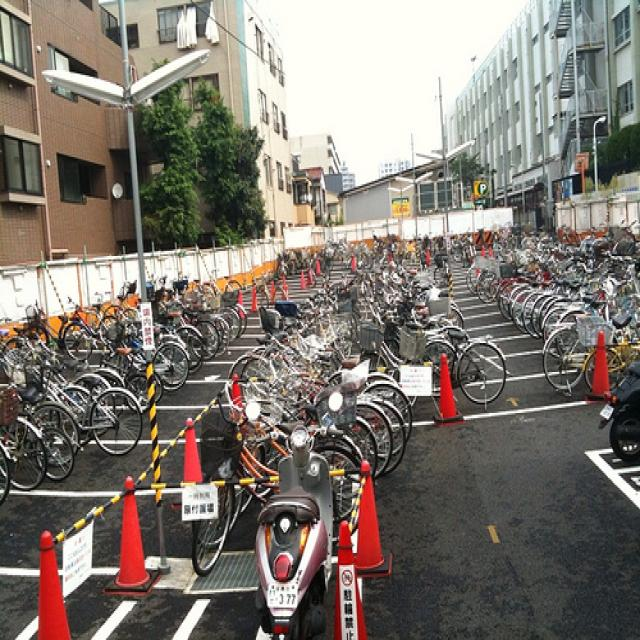motor: (252, 417, 335, 630), (599, 360, 640, 463)
